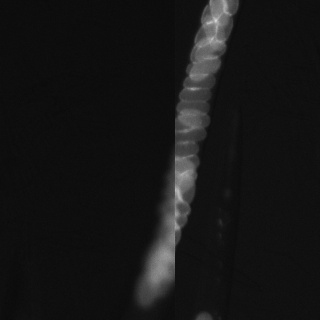embryo: (134, 271, 160, 310), (149, 243, 170, 283), (189, 57, 222, 82), (152, 262, 174, 297), (203, 15, 224, 50), (160, 215, 182, 247), (195, 39, 226, 61), (195, 19, 219, 47), (178, 109, 211, 129), (189, 38, 215, 63), (174, 125, 207, 144), (214, 12, 234, 43), (165, 170, 194, 191), (178, 172, 196, 205), (172, 154, 200, 174), (174, 170, 197, 194), (186, 60, 220, 76), (184, 73, 216, 90), (162, 183, 184, 207), (171, 141, 200, 159), (176, 99, 208, 115), (173, 114, 203, 131), (179, 87, 211, 101), (159, 199, 180, 220), (172, 200, 191, 216), (172, 212, 188, 229)
